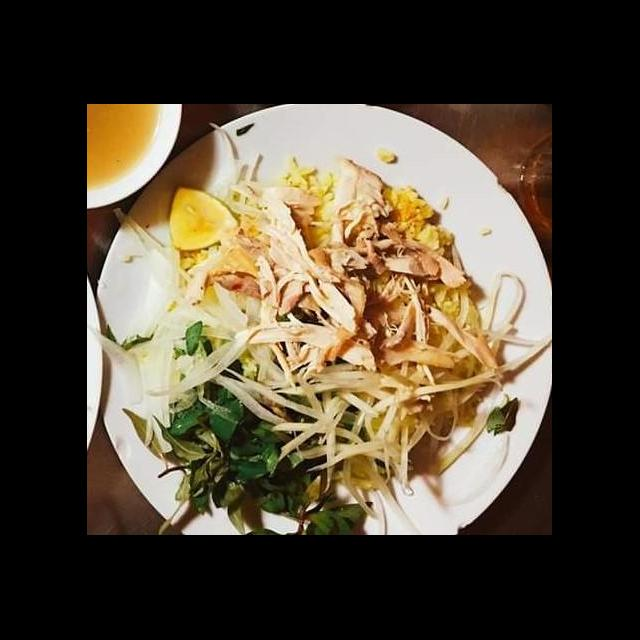com: (372, 180, 458, 264), (274, 156, 340, 254), (422, 280, 487, 358)
com ga: (134, 165, 522, 529)
rau ram: (116, 372, 378, 536)
thit ga: (230, 180, 362, 338), (230, 316, 380, 376), (328, 158, 397, 278), (356, 234, 474, 296), (422, 302, 508, 381), (184, 242, 270, 312)
